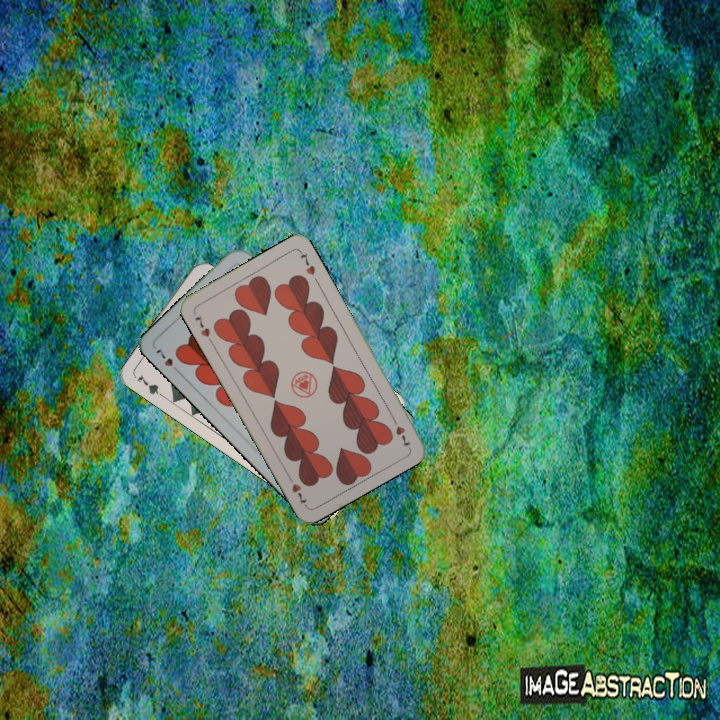G7: (133, 370, 168, 401)
H7: (151, 345, 183, 376), (388, 412, 413, 450), (190, 311, 213, 340)
